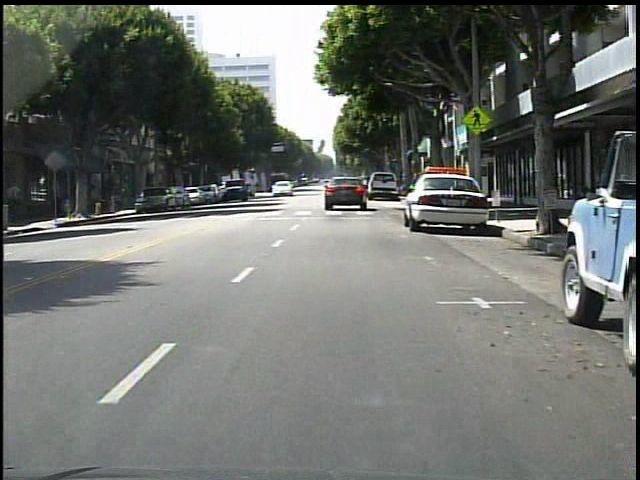person: (9, 179, 28, 228)
